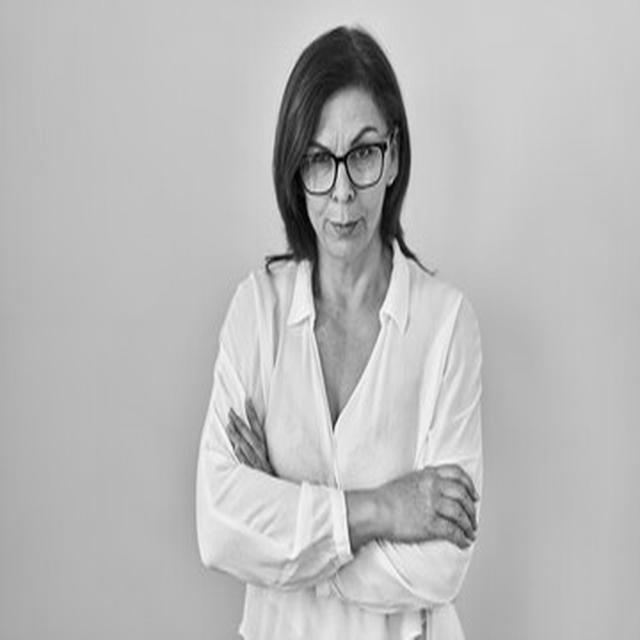Angry: (305, 93, 390, 259)
